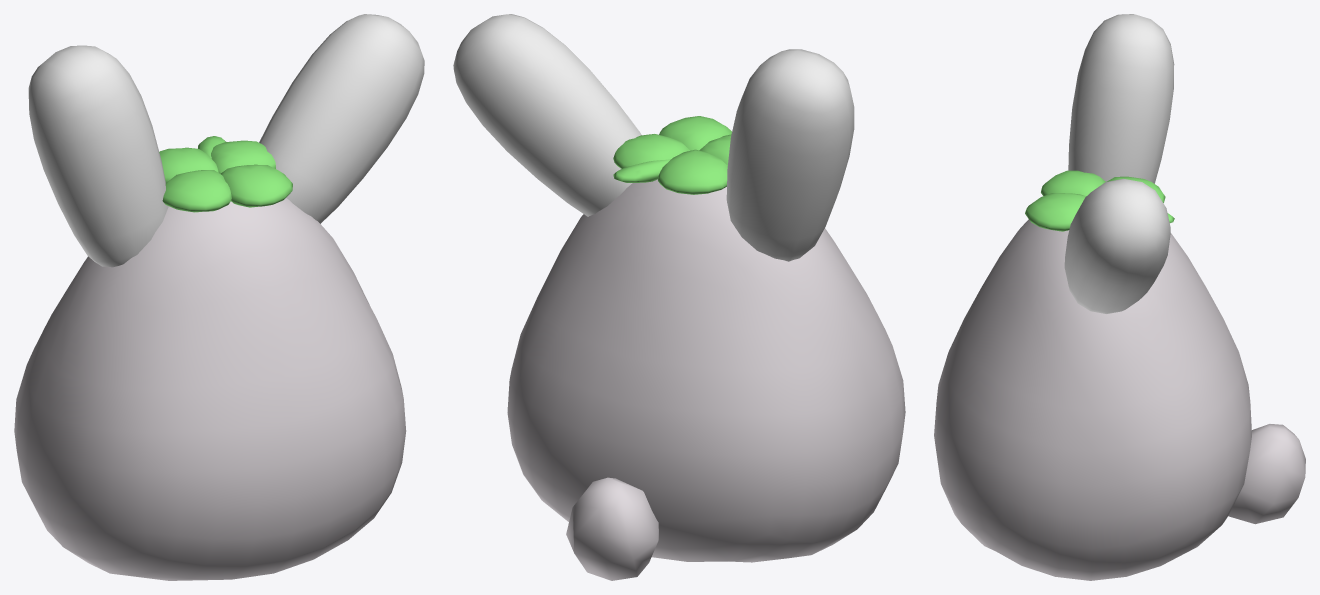
File: rabbit_clover_v0.2.glb
The picture shows the model from 3 angles, left to right: view 1: azimuth 30°, elevation 25°; view 2: azimuth 150°, elevation 25°; view 3: azimuth 270°, elevation 25°; orthographic projection. The views are drawn at different scales.
Parts seen in each view (by area): view 1: body, ear.01, ear.02, clover.003, clover.001, clover.002, clover; view 2: body, ear.02, ear.01, tail, clover, clover.002, clover.001, clover.004; view 3: body, ear.01, ear.02, tail, clover.001, clover.003.
Part boxes in pixels (x1,y1,x2,y2): body: [14, 198, 406, 580]; ear.01: [28, 45, 168, 267]; ear.02: [259, 14, 424, 223]; clover.003: [162, 170, 231, 212]; clover.001: [221, 164, 292, 207]; clover.002: [211, 140, 275, 173]; clover: [159, 147, 218, 182]; body: [507, 179, 905, 562]; ear.02: [453, 14, 641, 216]; ear.01: [726, 49, 854, 261]; tail: [566, 477, 658, 580]; clover: [658, 149, 727, 194]; clover.002: [613, 134, 690, 168]; clover.001: [659, 116, 731, 150]; clover.004: [613, 159, 671, 182]; body: [934, 219, 1251, 580]; ear.01: [1068, 14, 1174, 183]; ear.02: [1064, 178, 1170, 313]; tail: [1228, 424, 1305, 524]; clover.001: [1025, 193, 1086, 231]; clover.003: [1041, 170, 1105, 195].
Size of what is drawn, in the model's own units: 2.15 by 2.64 by 1.91.
